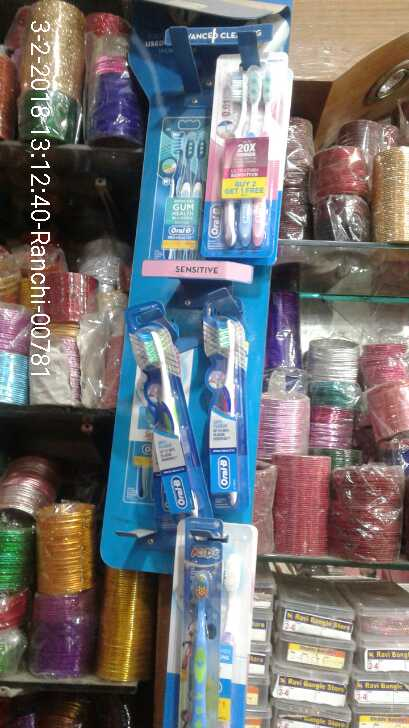oralb: (214, 60, 292, 257), (126, 303, 198, 515), (203, 314, 251, 502)
